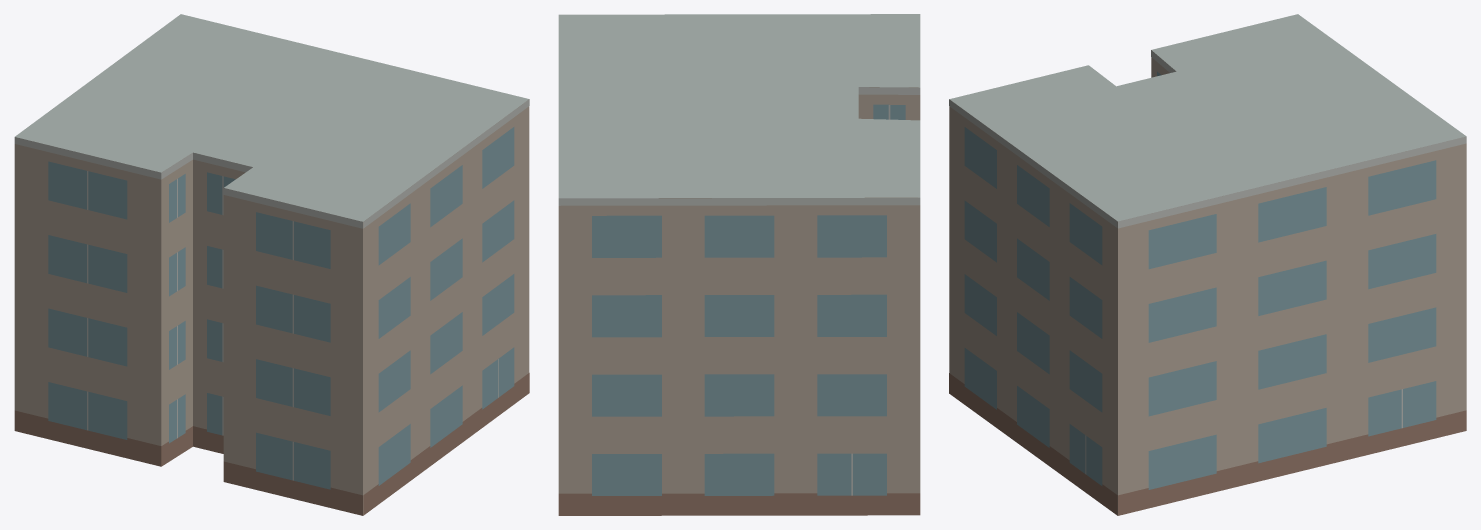
The model's file is survey-upis-32696187.glb.
3 renders of one model, left to right at view 1: azimuth 30°, elevation 25°; view 2: azimuth 150°, elevation 25°; view 3: azimuth 270°, elevation 25°, orthographic. The views are drawn at different scales.
Parts seen in each view (by area): view 1: survey-upis-32696187.tmp; view 2: survey-upis-32696187.tmp; view 3: survey-upis-32696187.tmp.
Boxes of the visible parts, x1,y1,x2,y2 form: survey-upis-32696187.tmp: (14,14,529,515); survey-upis-32696187.tmp: (558,14,920,515); survey-upis-32696187.tmp: (949,14,1466,515).
Size of the model in its own units: 15.54 by 10.27 by 16.37.
